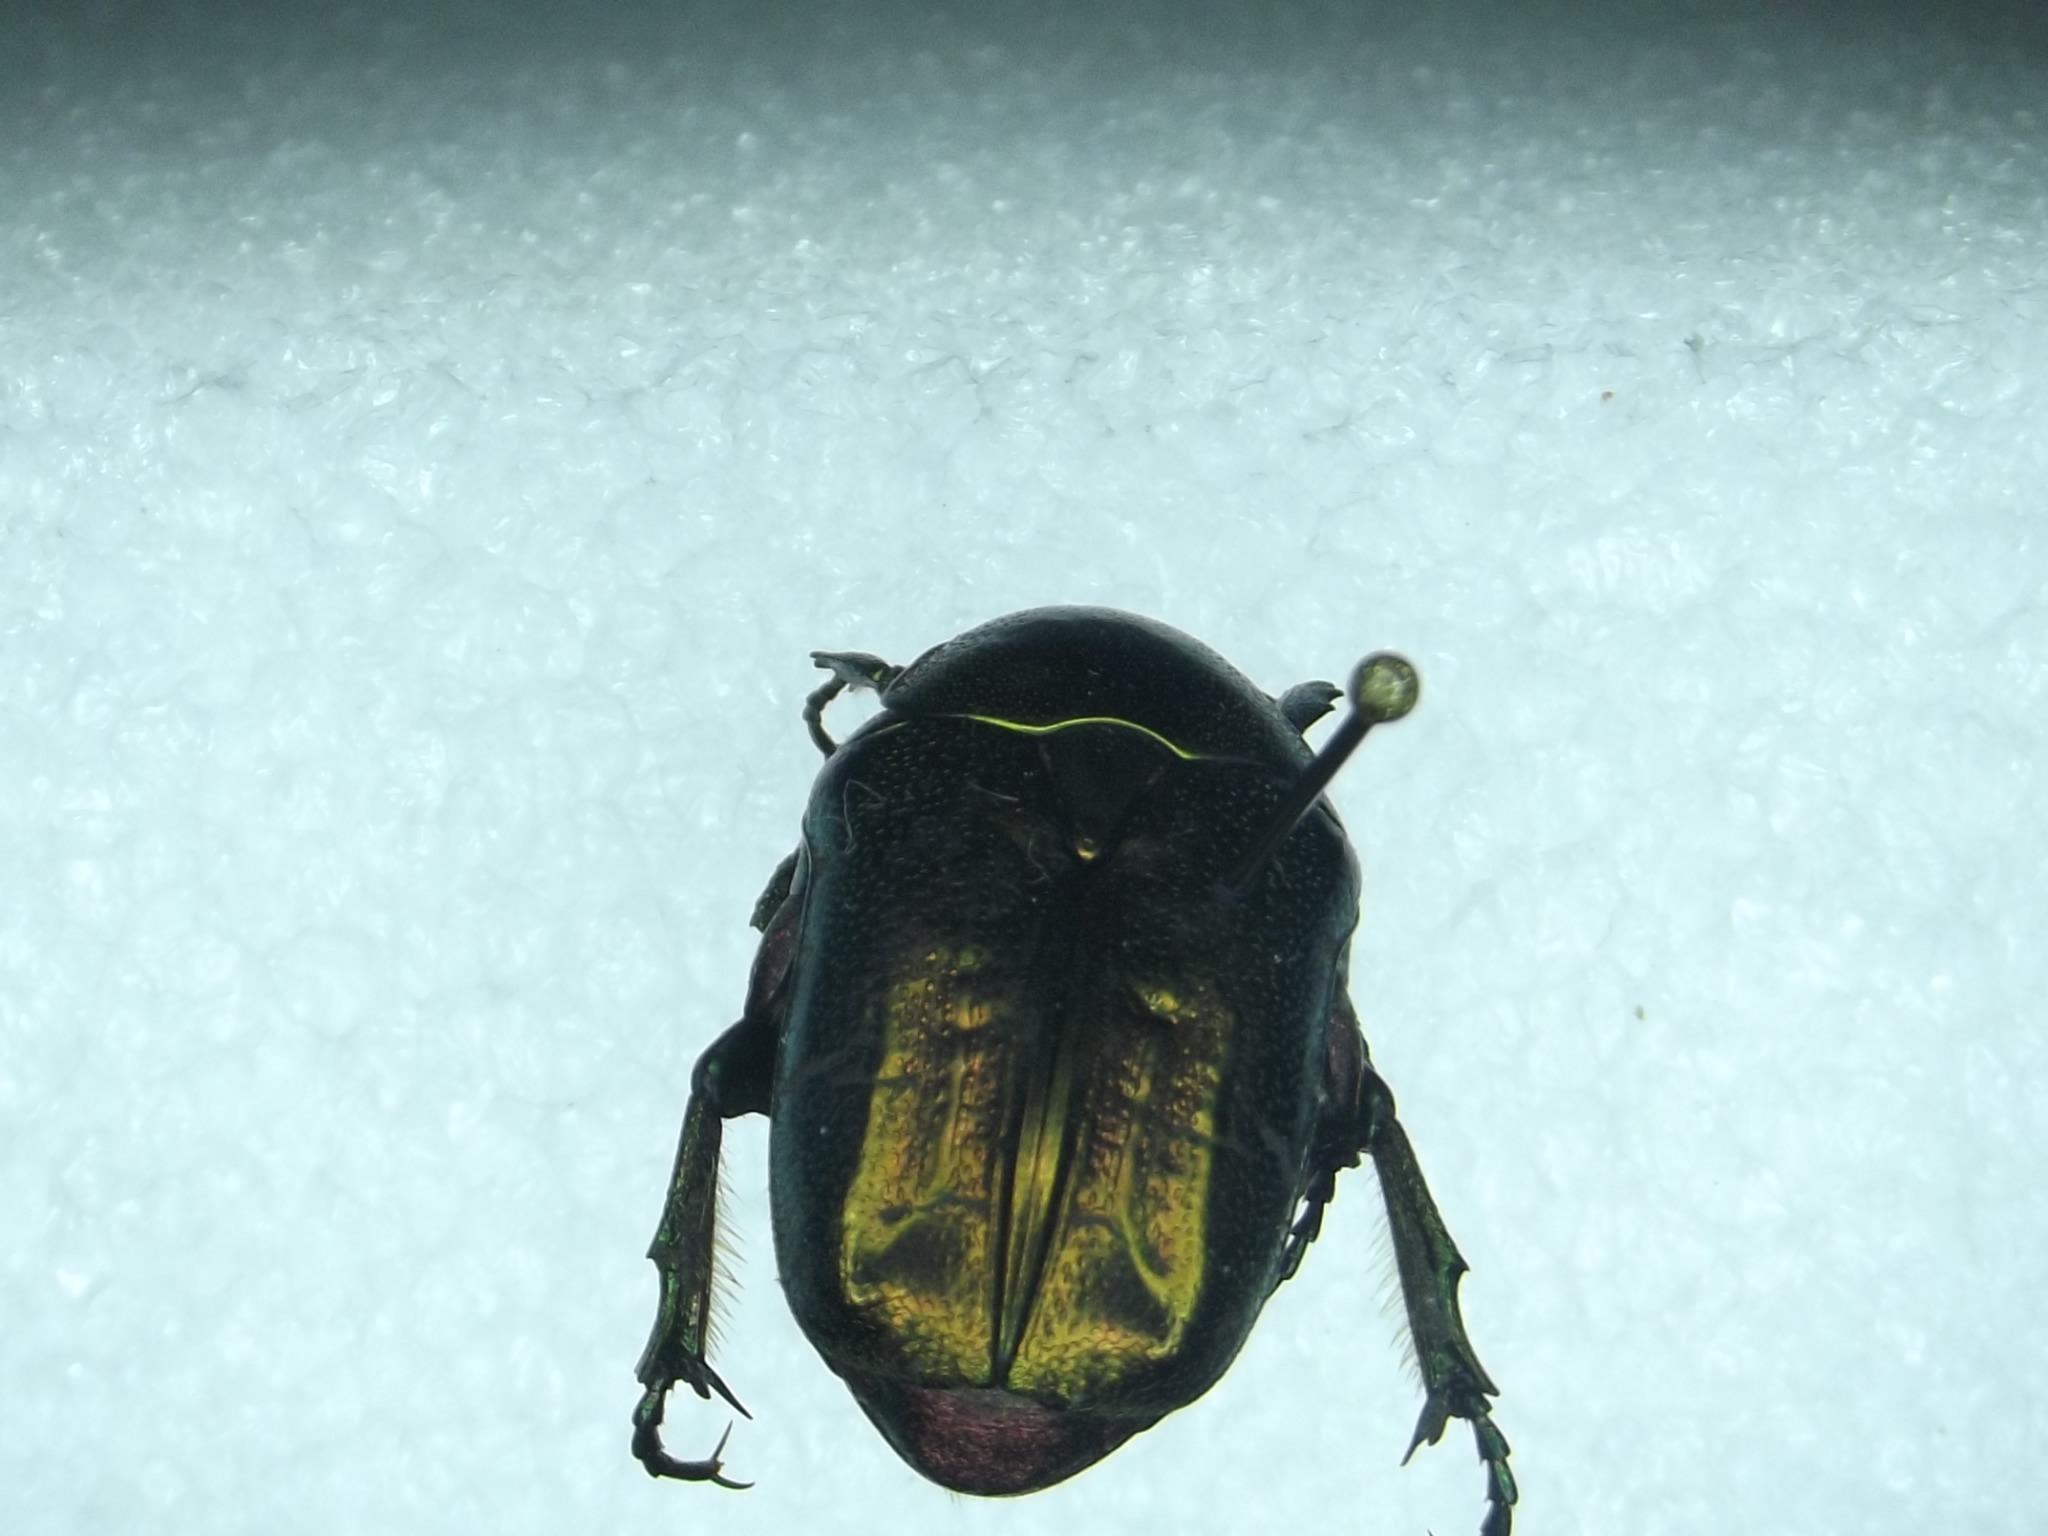Cetonia_aurata: (585, 568, 1538, 1534)
